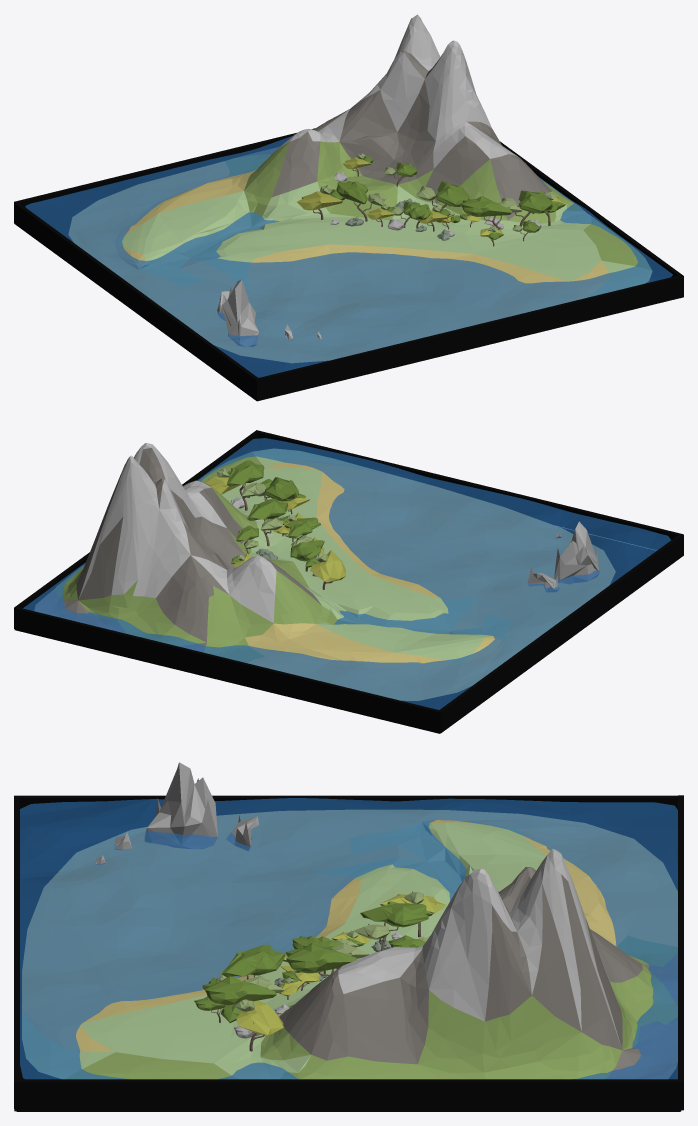
File: island.fbx
The picture shows the model from 3 angles, top to bottom: view 1: azimuth 30°, elevation 25°; view 2: azimuth 150°, elevation 25°; view 3: azimuth 270°, elevation 25°; orthographic projection. The views are drawn at different scales.
Parts seen in each view (by area): view 1: pPlane1, pPlane2, pCube8, pCube7, pCube9, pPlane3, pCube1, pCube6, pCube74, pCube37, pCube49; view 2: pPlane1, pPlane2, pCube9, pCube8, pCube7, pCube1, pPlane3, pCube6, pCube13, pCube37, pCube49, pCube74 (+1 smaller); view 3: pPlane1, pPlane2, pCube6, pCube7, pPlane3, pCube1, pCube9, pCube8, pCube49, pCube74, pCube37, pCube44 (+2 smaller).
Boxes of the visible parts, x1,y1,x2,y2 form: pPlane1: (68, 14, 652, 362); pPlane2: (25, 136, 672, 377); pCube8: (255, 275, 682, 400); pCube7: (14, 203, 260, 401); pCube9: (14, 128, 315, 222); pPlane3: (42, 208, 679, 400); pCube1: (222, 279, 258, 347); pCube6: (500, 141, 683, 297); pCube74: (461, 196, 512, 216); pCube37: (518, 190, 552, 213); pCube49: (436, 181, 469, 206); pPlane1: (34, 443, 615, 700); pPlane2: (23, 438, 670, 709); pCube9: (14, 607, 441, 733); pCube8: (258, 431, 683, 549); pCube7: (439, 534, 683, 732); pCube1: (554, 521, 599, 584); pPlane3: (404, 527, 655, 709); pCube6: (14, 430, 259, 628); pCube13: (310, 550, 345, 581); pCube37: (226, 460, 263, 486); pCube49: (247, 498, 287, 520); pCube74: (264, 477, 298, 501); pPlane1: (22, 809, 677, 1079); pPlane2: (20, 798, 677, 1079); pCube6: (14, 1079, 681, 1111); pCube7: (20, 795, 677, 826); pPlane3: (16, 827, 680, 1111); pCube1: (145, 762, 217, 848); pCube9: (678, 795, 683, 1110); pCube8: (14, 795, 19, 1108); pCube49: (286, 943, 357, 973); pCube74: (221, 944, 285, 977); pCube37: (202, 976, 276, 1005); pCube44: (360, 901, 428, 927).
Bounding box in the file's own units: 8842 × 3109 × 8733.
